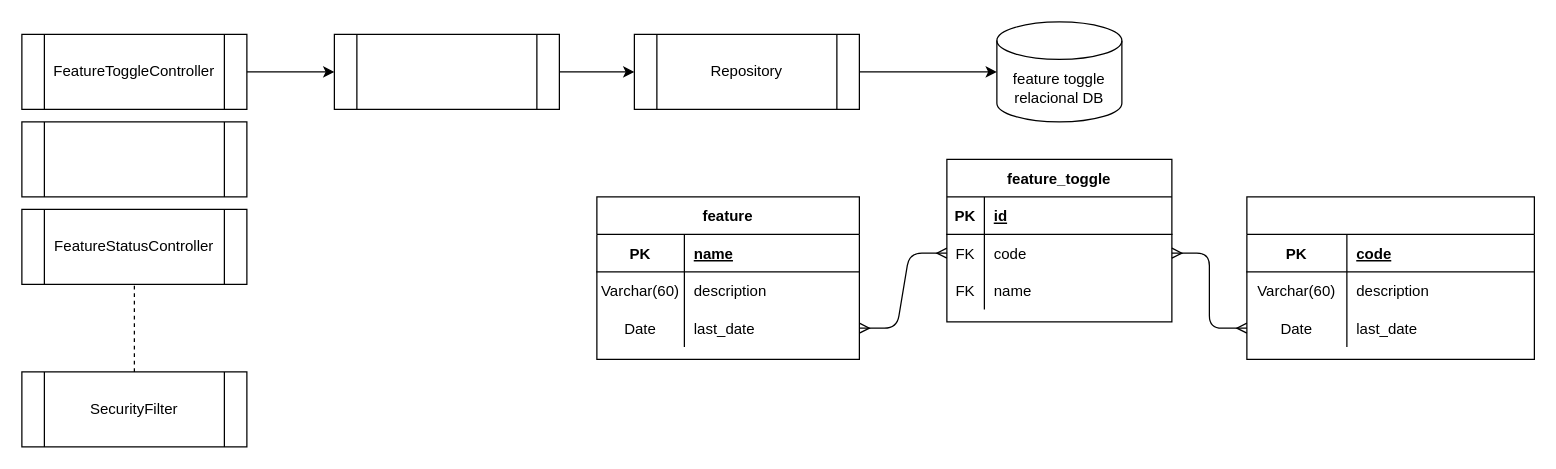
The diagram is 1556 pixels wide and 469 high, and some of its shapes have lost their labels. Here are the shapes that lost their labels. From the top down, the box of each, then its label:
(333, 33, 559, 109): Service
(21, 121, 247, 197): FeatureController
(1246, 196, 1534, 359): toggle
